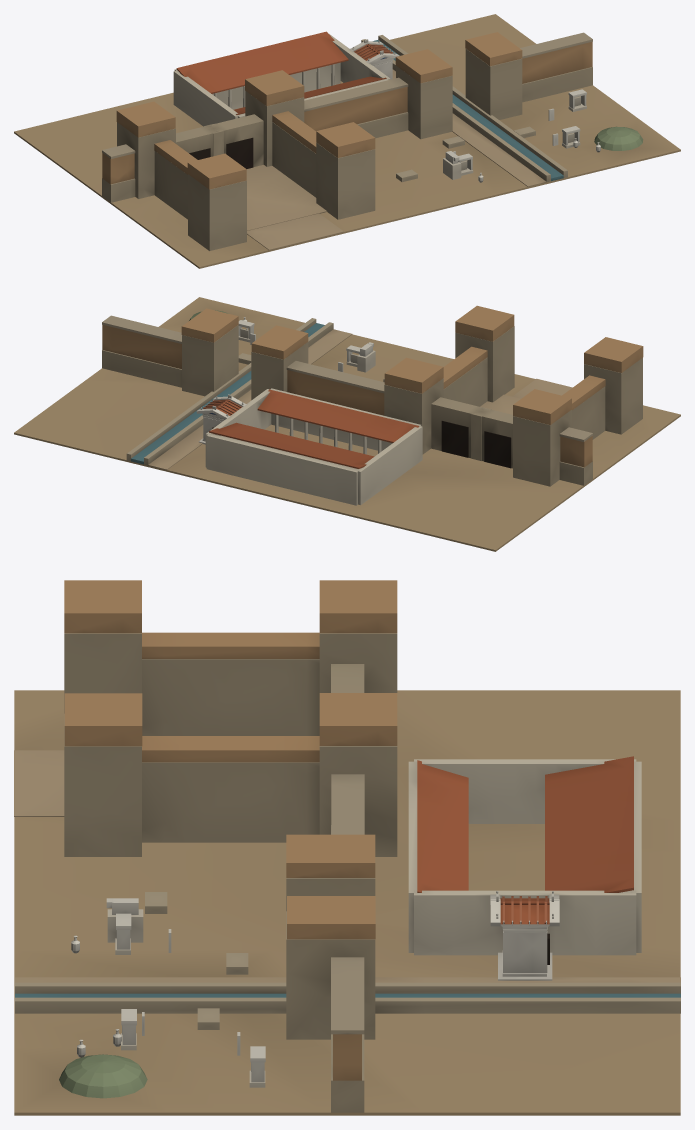
Rendered from dipylon.glb.
3 views of the same model, one above another, from view 1: azimuth 30°, elevation 25°; view 2: azimuth 150°, elevation 25°; view 3: azimuth 270°, elevation 25° (orthographic). The views are drawn at different scales.
Parts seen in each view (by area): view 1: p1_walls, p0_ground, p3_pompeion, p2_graves; view 2: p1_walls, p0_ground, p3_pompeion, p2_graves; view 3: p0_ground, p1_walls, p3_pompeion, p2_graves.
Part boxes in pixels (left/top/right/bottom): p1_walls: left=102, top=32, right=592, bottom=250; p0_ground: left=14, top=14, right=680, bottom=268; p3_pompeion: left=173, top=31, right=399, bottom=126; p2_graves: left=396, top=89, right=643, bottom=182; p1_walls: left=102, top=305, right=643, bottom=486; p0_ground: left=14, top=297, right=680, bottom=551; p3_pompeion: left=196, top=388, right=422, bottom=505; p2_graves: left=189, top=310, right=384, bottom=382; p0_ground: left=14, top=690, right=680, bottom=1115; p1_walls: left=15, top=580, right=680, bottom=1112; p3_pompeion: left=408, top=756, right=641, bottom=980; p2_graves: left=59, top=892, right=265, bottom=1098.
Size of the model in its own units: 90.07 by 13.3 by 60.07.
